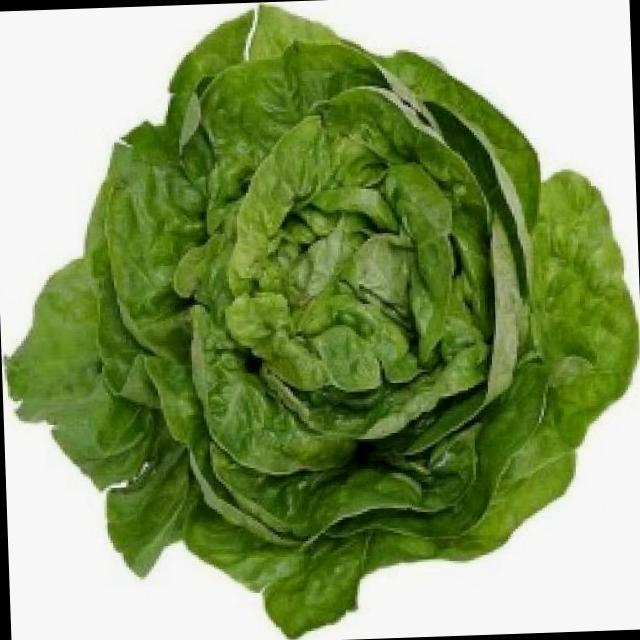Lettuce-Ready-to-Harvest: (7, 6, 637, 635)
